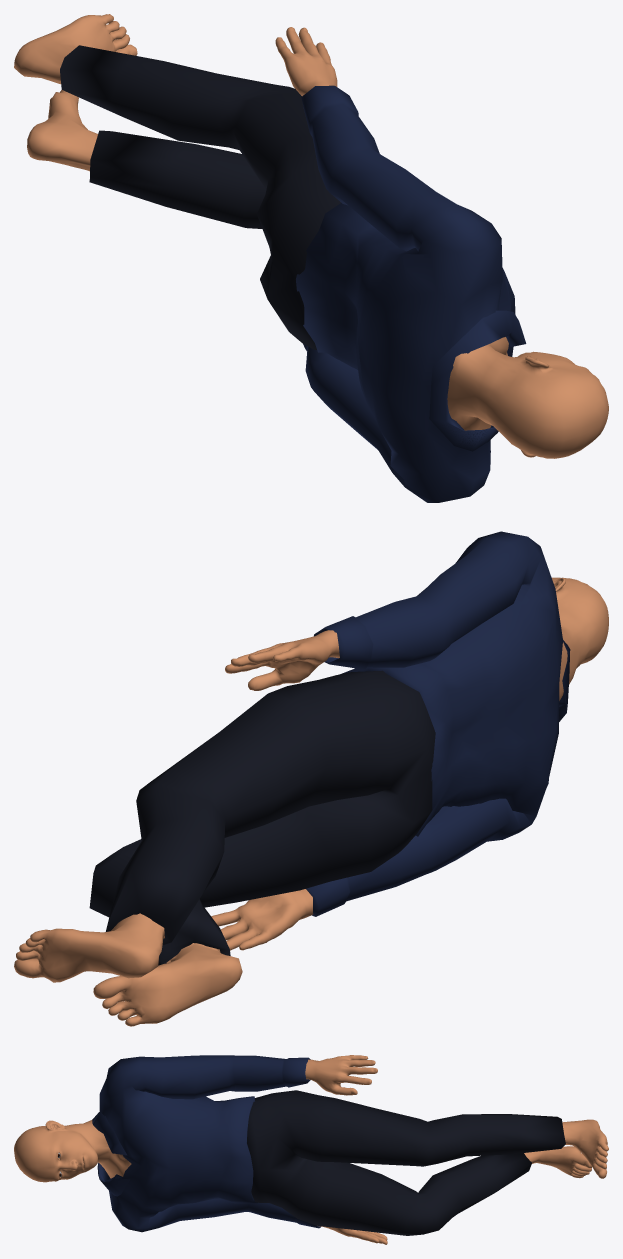
File: walk.obj
3 views of the same model, one above another, from view 1: azimuth 30°, elevation 25°; view 2: azimuth 150°, elevation 25°; view 3: azimuth 270°, elevation 25° (orthographic). The views are drawn at different scales.
Size of the model in its own units: 0.4567 by 0.5657 by 1.68.
